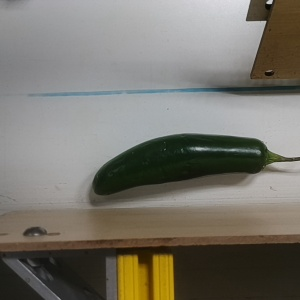Cut Point: (247, 136, 283, 175)
